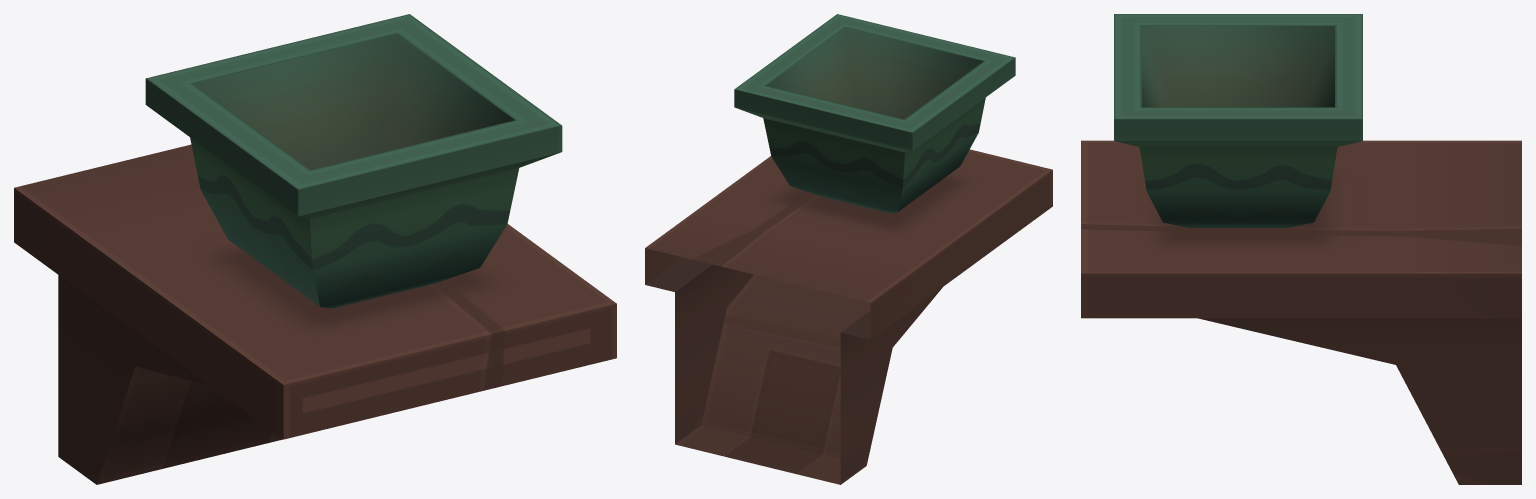
Rendered from BG_074_torch.FBX.
3 renders of one model, left to right at view 1: azimuth 30°, elevation 25°; view 2: azimuth 150°, elevation 25°; view 3: azimuth 270°, elevation 25°, orthographic. The views are drawn at different scales.
Visible parts, largest first — view 1: BG_074_torch; view 2: BG_074_torch; view 3: BG_074_torch.
Boxes of the visible parts, box(x1,y1,x2,y2) form: BG_074_torch: box(14, 14, 616, 484); BG_074_torch: box(645, 14, 1052, 484); BG_074_torch: box(1081, 14, 1521, 484).
Bounding box in the file's own units: 50 × 64.74 × 70.
